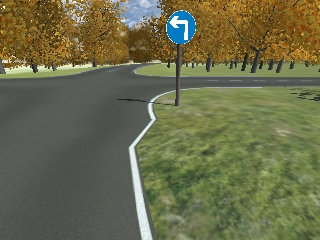left: (165, 11, 197, 42)
